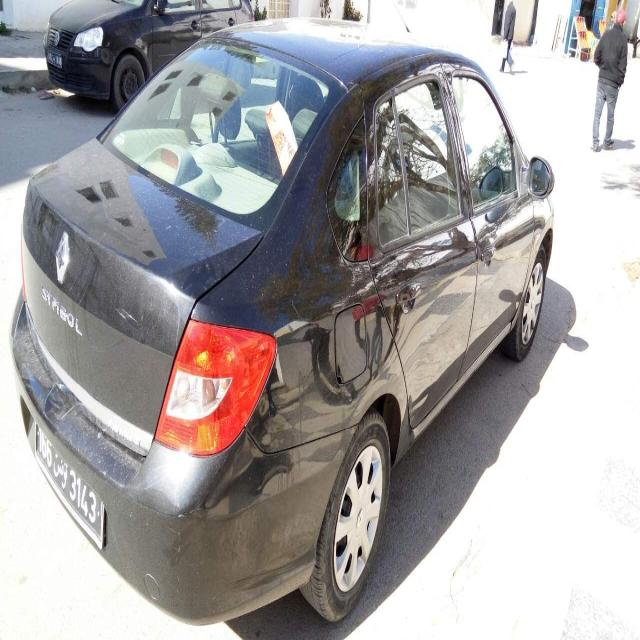LP: (34, 410, 102, 548)
